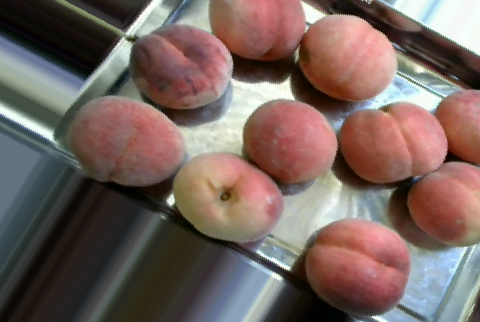Peach: (65, 94, 185, 185), (302, 216, 412, 315), (171, 150, 286, 243), (131, 23, 234, 109), (339, 103, 448, 183), (238, 100, 340, 183), (298, 12, 394, 100), (407, 161, 480, 246)
